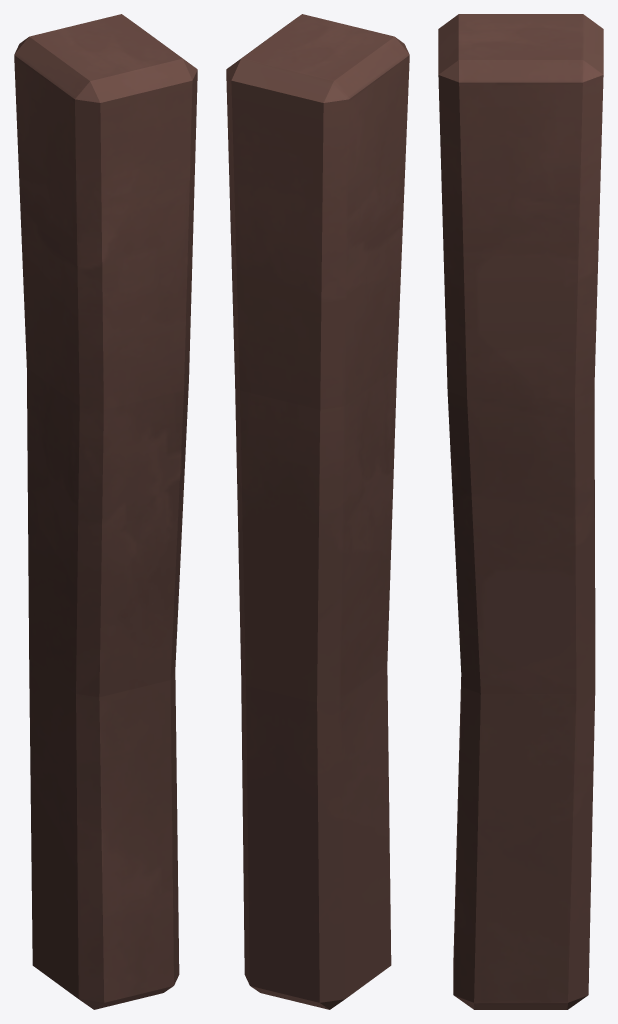
Rendered from fencePiece1.fbx.
The picture shows the model from 3 angles, left to right: view 1: azimuth 30°, elevation 25°; view 2: azimuth 150°, elevation 25°; view 3: azimuth 270°, elevation 25°; orthographic projection.
Parts seen in each view (by area): view 1: fencePiece1.001; view 2: fencePiece1.001; view 3: fencePiece1.001.
Part boxes in pixels (x1,y1,x2,y2): fencePiece1.001: (14,14,197,1009); fencePiece1.001: (226,14,409,1009); fencePiece1.001: (438,14,603,1009).
Size of the model in its own units: 61.18 by 446 by 69.8.
